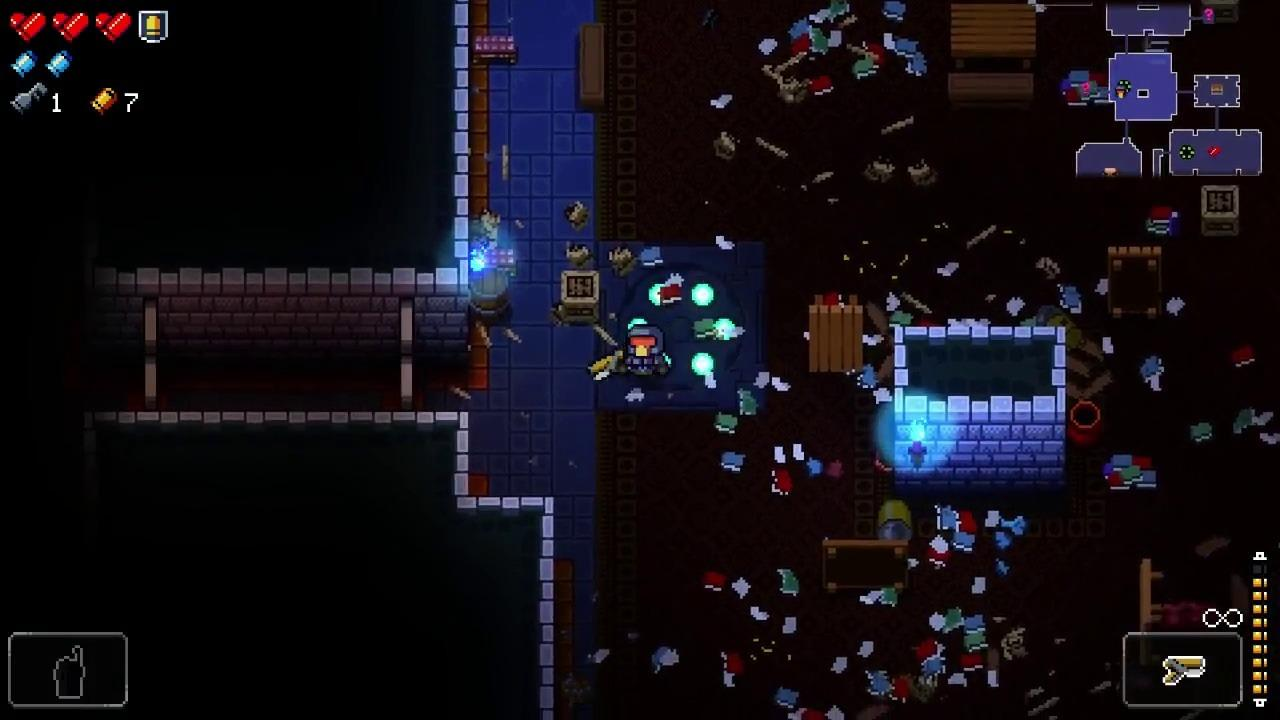dead_bullet_kin: (878, 501, 912, 540)
player: (627, 327, 666, 379)
table: (950, 4, 1037, 69), (822, 540, 908, 594), (808, 294, 864, 373), (1108, 245, 1164, 320), (1139, 558, 1163, 665)
teleporter: (597, 239, 769, 413)
unlocked_door: (399, 295, 414, 413), (143, 297, 157, 412)
wall: (895, 326, 1067, 497)
